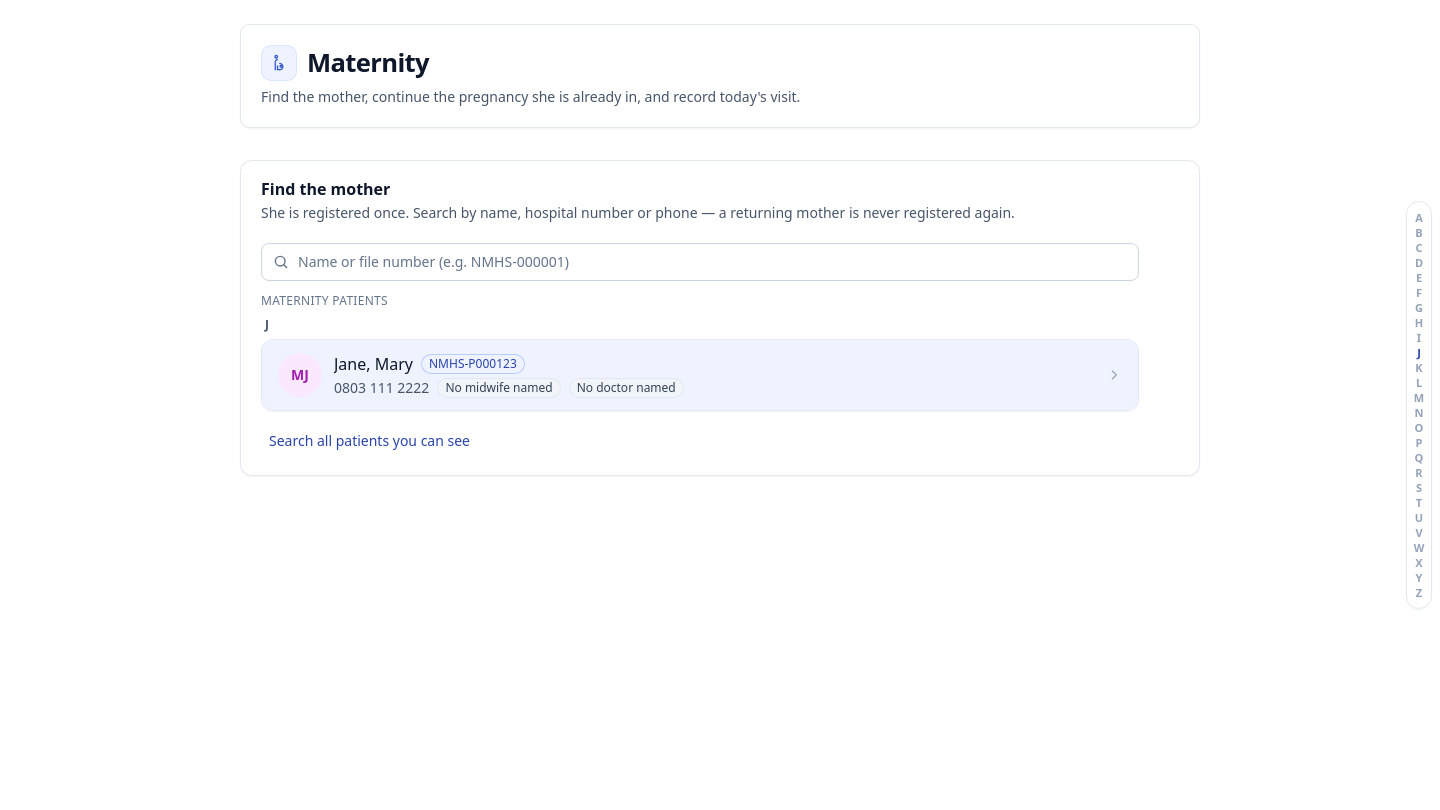
it: recording today's visit › tells reception who records the visit, and offers it no control
Click the dropdown named "Search maternity patients": (700, 262) [261,243,1139,281]
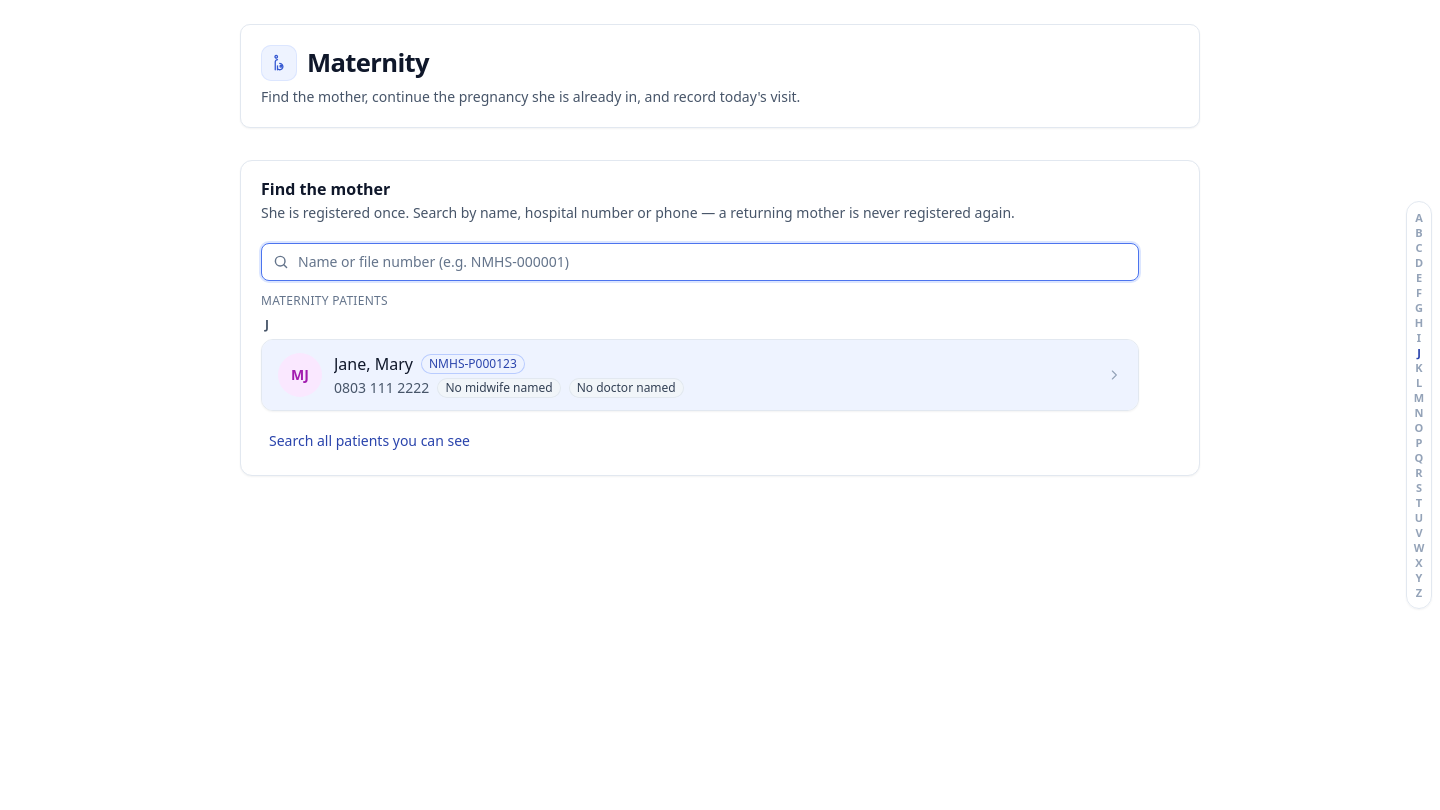
Click the option "Jane, Mary": (300, 375) [262,340,1138,410]
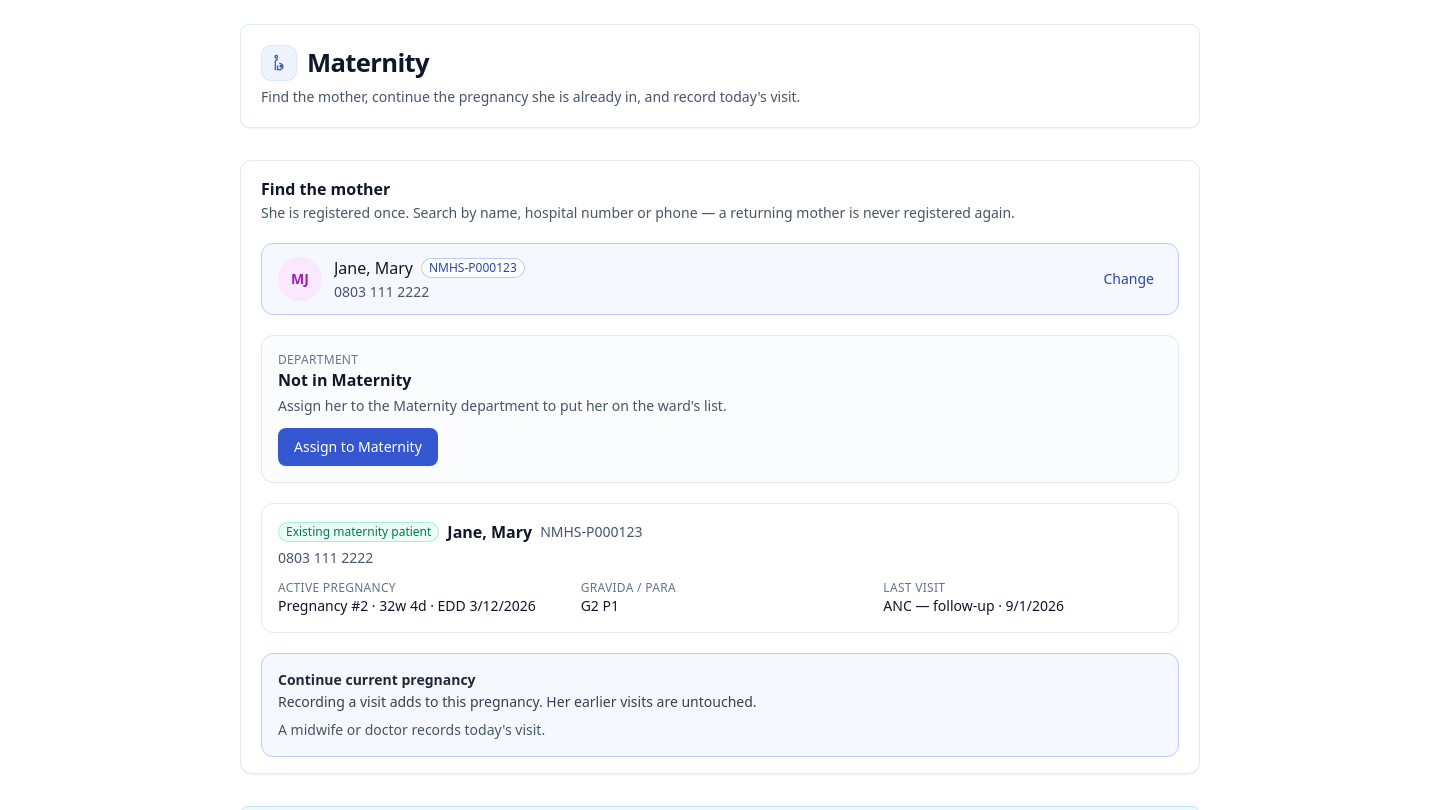
Expected: the text "Continue current pregnancy" is shown, [278,670,476,689]
Expected: the text "A midwife or doctor records today's visit." is shown, [278,720,545,739]
